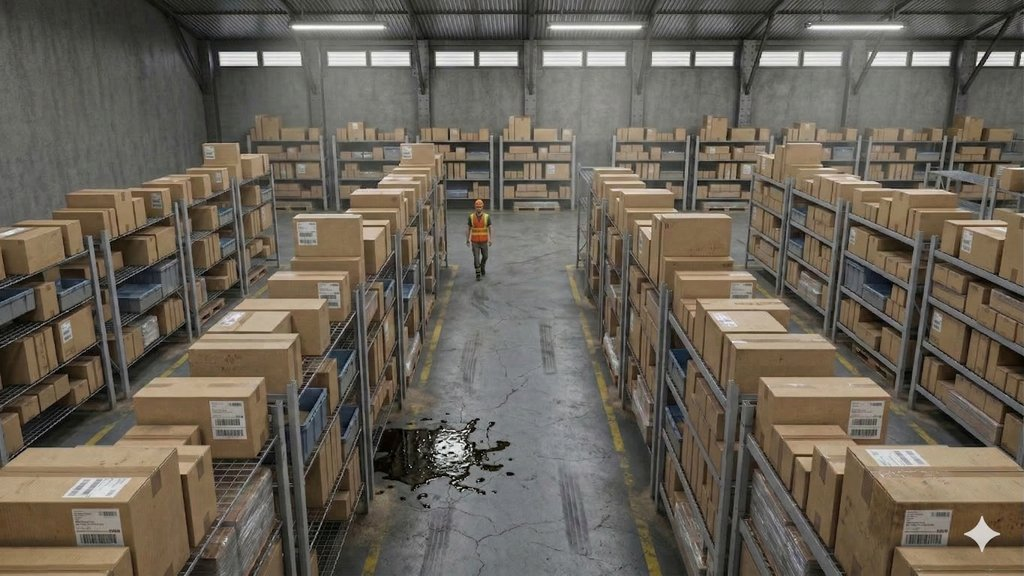empty_shelf: (929, 153, 988, 197), (701, 202, 749, 214), (513, 202, 561, 213)
person: (448, 191, 507, 291)
safety_helmet: (474, 196, 488, 209)
safety_vest: (460, 214, 498, 250)
spill: (378, 387, 526, 534)
